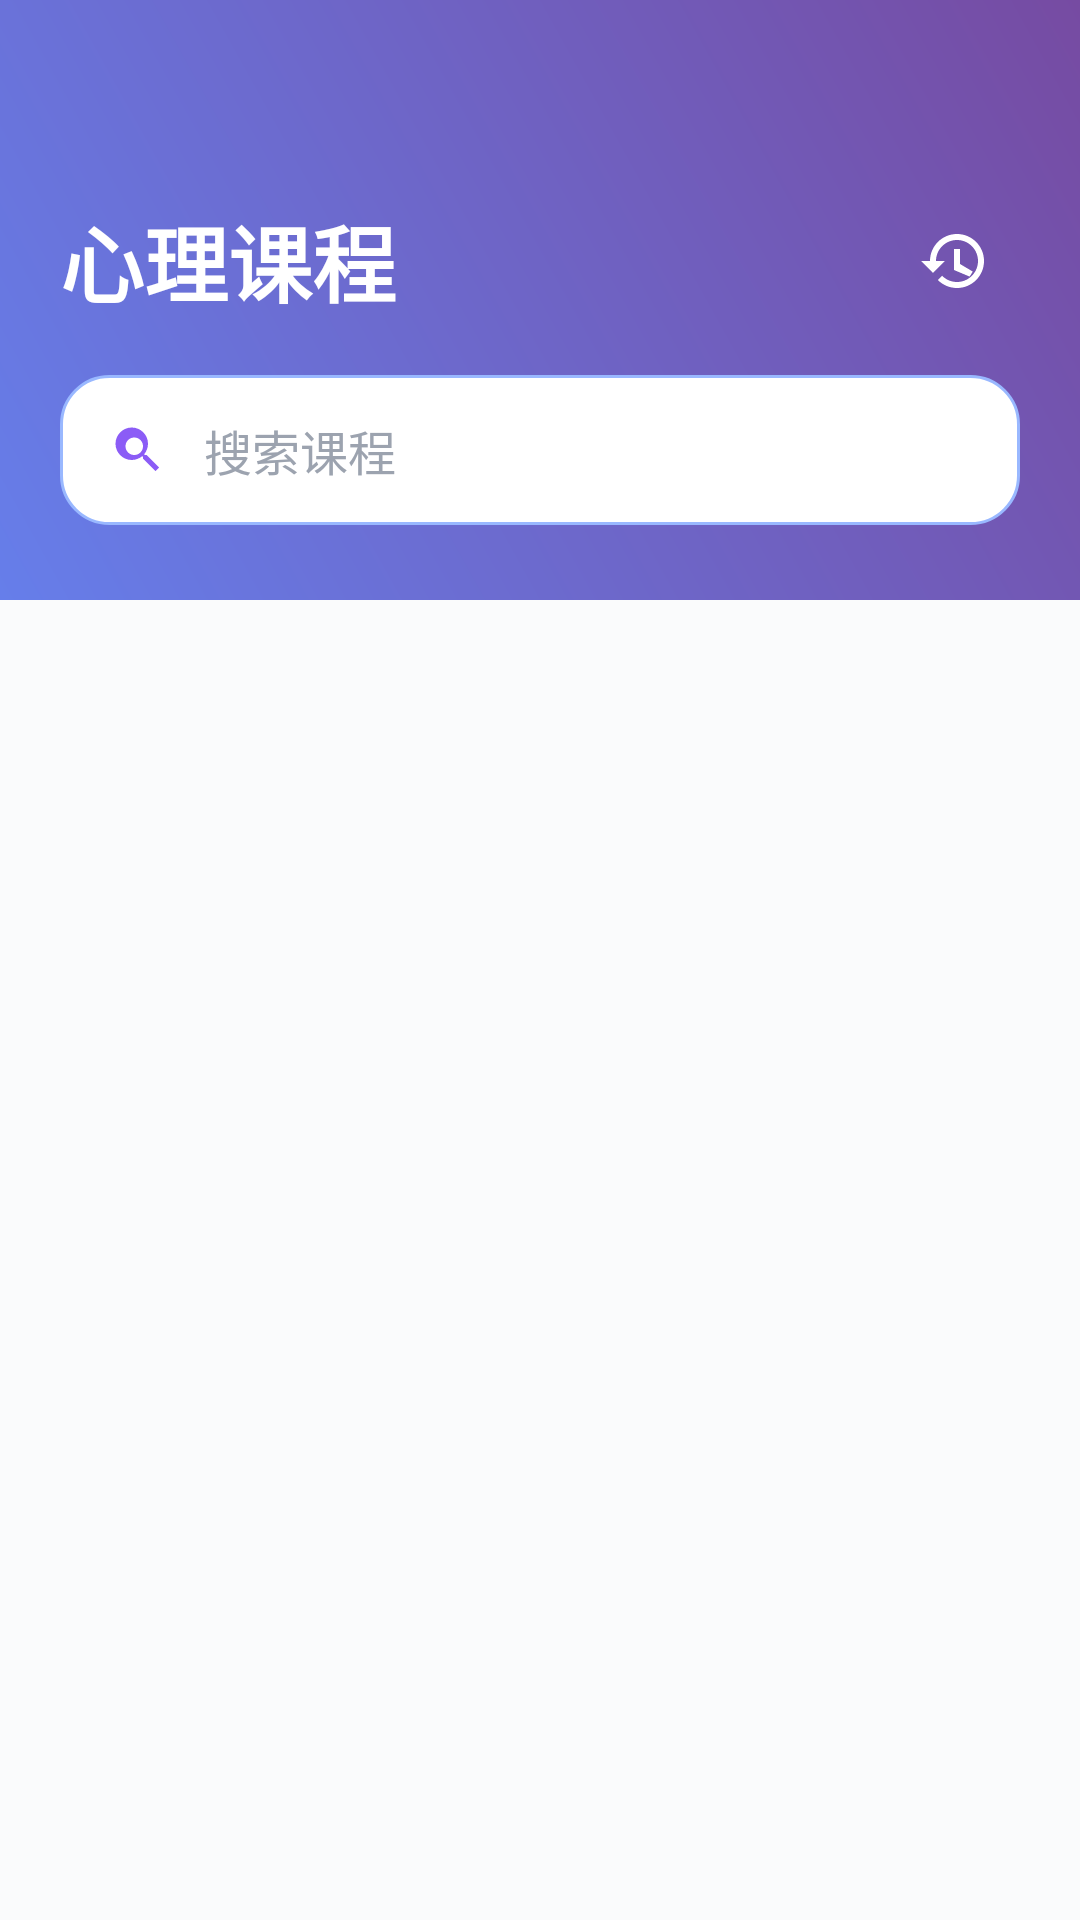

Point at icon controls on the screen. Image size 1080 x 1920, points as (x=x, y=y).
search: (x=137, y=449)
播放历史: (x=952, y=261)
